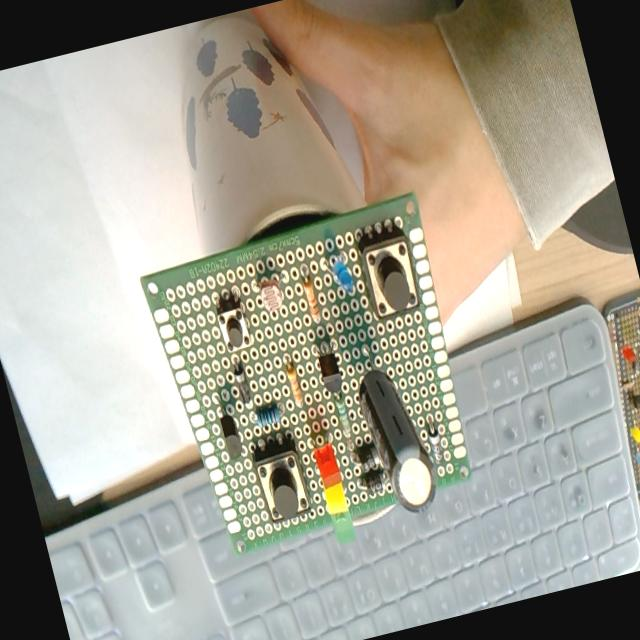Electrolytic capacitor: (350, 356, 446, 522)
cds: (252, 268, 288, 320)
diode: (354, 441, 382, 474), (232, 362, 252, 406), (360, 468, 389, 498), (425, 424, 445, 464)
led: (312, 442, 344, 491), (327, 252, 356, 298), (327, 502, 357, 546), (321, 480, 349, 516)
resistor: (334, 393, 356, 446), (302, 275, 322, 324), (284, 362, 304, 408), (253, 402, 282, 431)
switch: (354, 222, 424, 322), (248, 435, 314, 526), (215, 295, 252, 353)
transistor: (311, 338, 346, 397), (213, 394, 244, 460)
